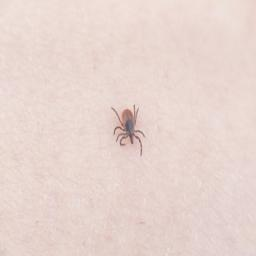Ixodes scapularis: (110, 106, 146, 156)
